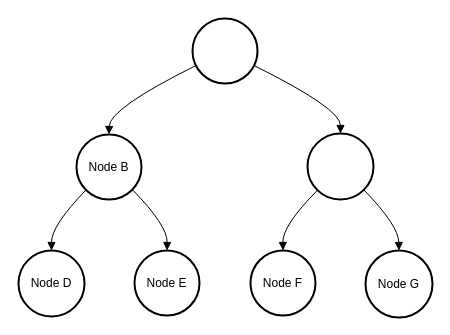
The diagram is 450 pixels wide and 335 high, and some of its shapes have lost their labels. The centre of each missing label's shape, as x and y in pixels:
"Node A" belongs at point 224,50.
"Node C" belongs at point 340,166.
